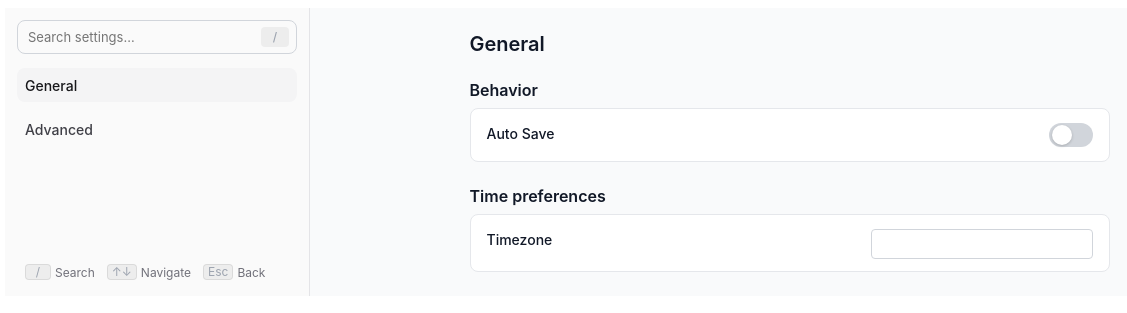
Test: SetteraLayout › switches content on sidebar click
Click the button "Advanced" at (59, 129), box [17, 112, 297, 146]
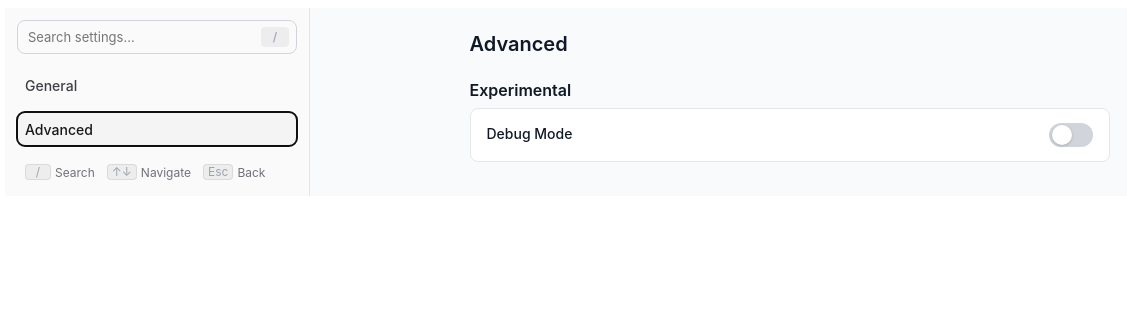
Result: the heading "Experimental" is shown at [470, 80, 571, 100]
Result: the text "Debug Mode" is shown at [486, 124, 572, 142]
